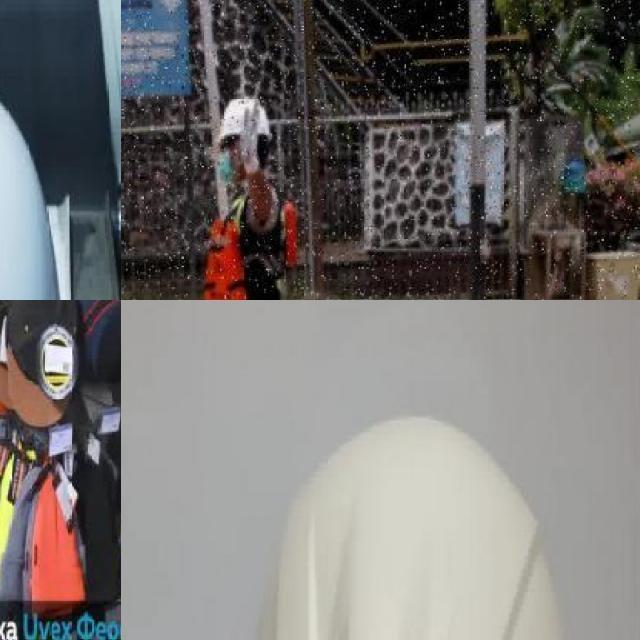apron: (238, 96, 266, 176)
